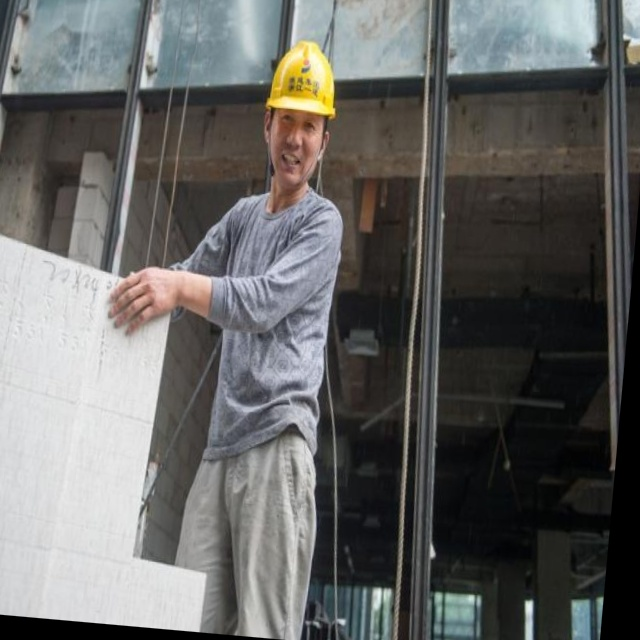Con_Casco: (262, 41, 340, 191)
